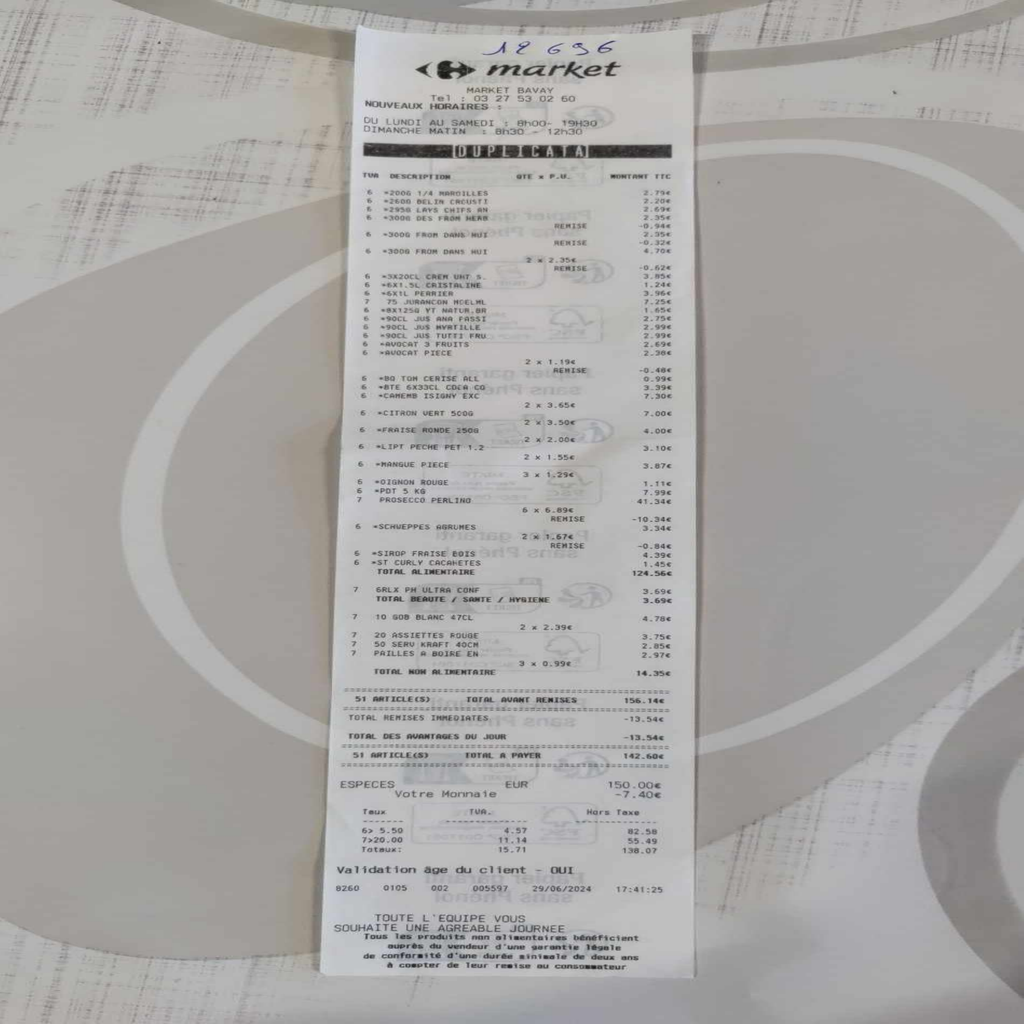recipt: (317, 32, 700, 982)
